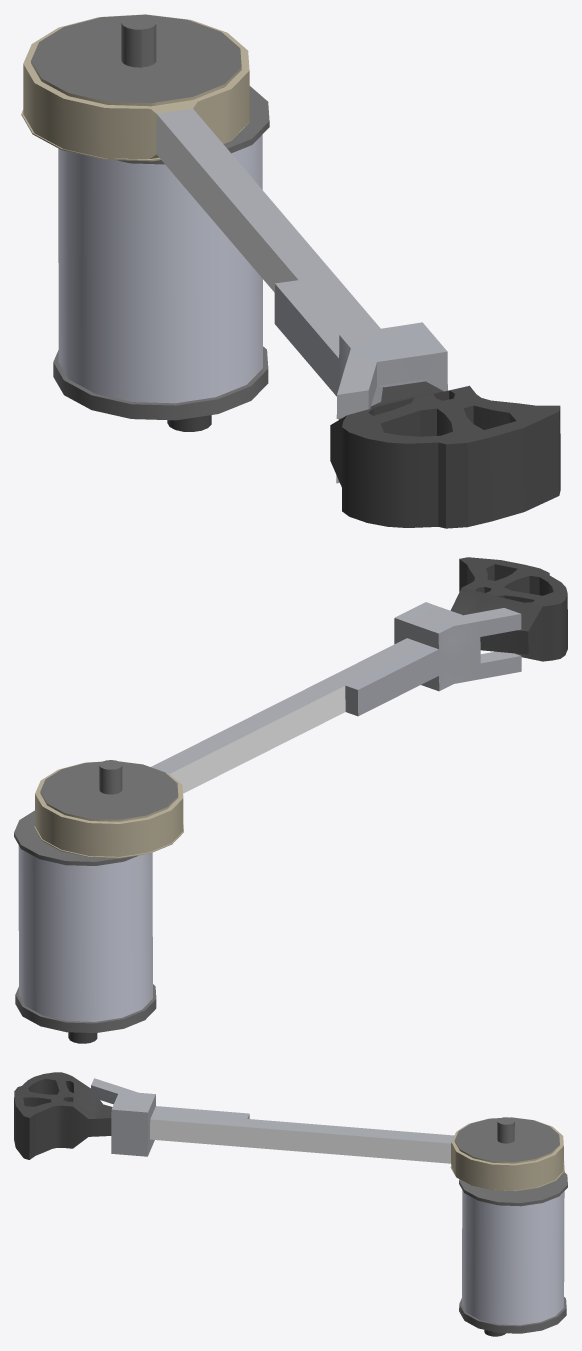
File: Tibia_Mirrored.obj
The picture shows the model from 3 angles, top to bottom: view 1: azimuth 30°, elevation 25°; view 2: azimuth 150°, elevation 25°; view 3: azimuth 270°, elevation 25°; orthographic projection. The views are drawn at different scales.
Parts seen in each view (by area): view 1: Tibia_Mirrored; view 2: Tibia_Mirrored; view 3: Tibia_Mirrored.
Part boxes in pixels (box(x1,y1,x2,y2)): Tibia_Mirrored: box(21, 14, 560, 528); Tibia_Mirrored: box(14, 557, 567, 1043); Tibia_Mirrored: box(14, 1072, 567, 1336).
Bounding box in the file's own units: 0.9522 × 1 × 2.5.
